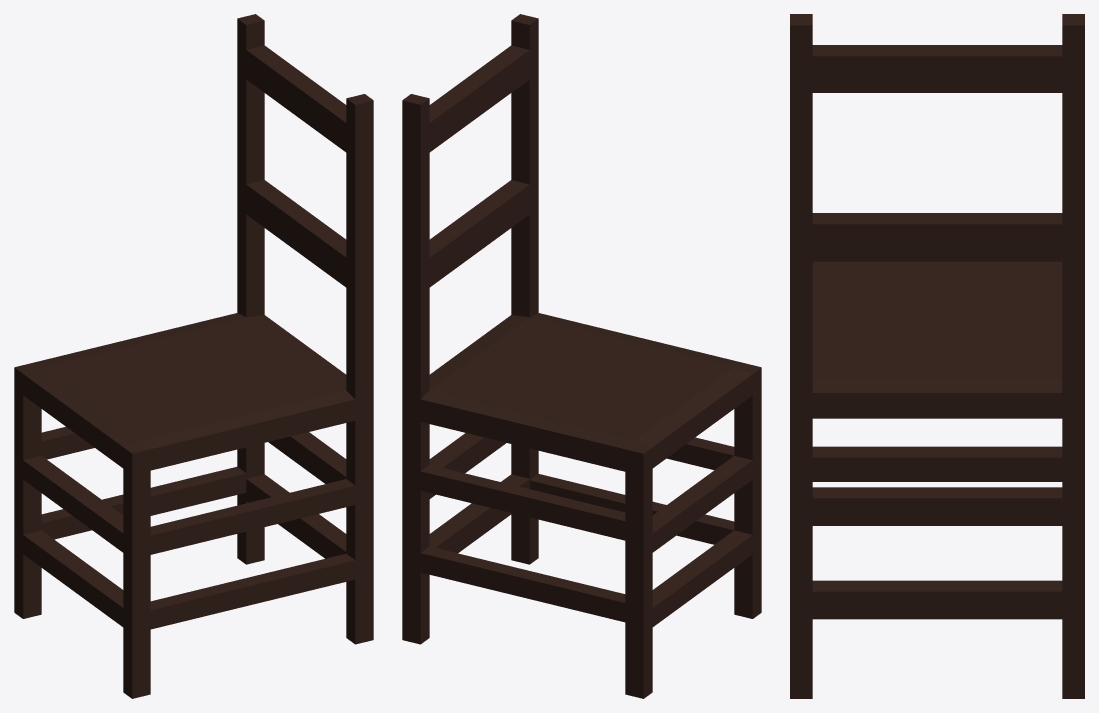
The model's file is cube.201_lev3.glb.
The picture shows the model from 3 angles, left to right: view 1: azimuth 30°, elevation 25°; view 2: azimuth 150°, elevation 25°; view 3: azimuth 270°, elevation 25°; orthographic projection. The views are drawn at different scales.
Visible parts, largest first — view 1: cube.201_lev3; view 2: cube.201_lev3; view 3: cube.201_lev3.
Boxes of the visible parts, x1,y1,x2,y2 form: cube.201_lev3: (14, 14, 373, 698); cube.201_lev3: (402, 14, 761, 698); cube.201_lev3: (790, 14, 1084, 698).
Bounding box in the file's own units: 0.3641 × 0.7772 × 0.3083.
